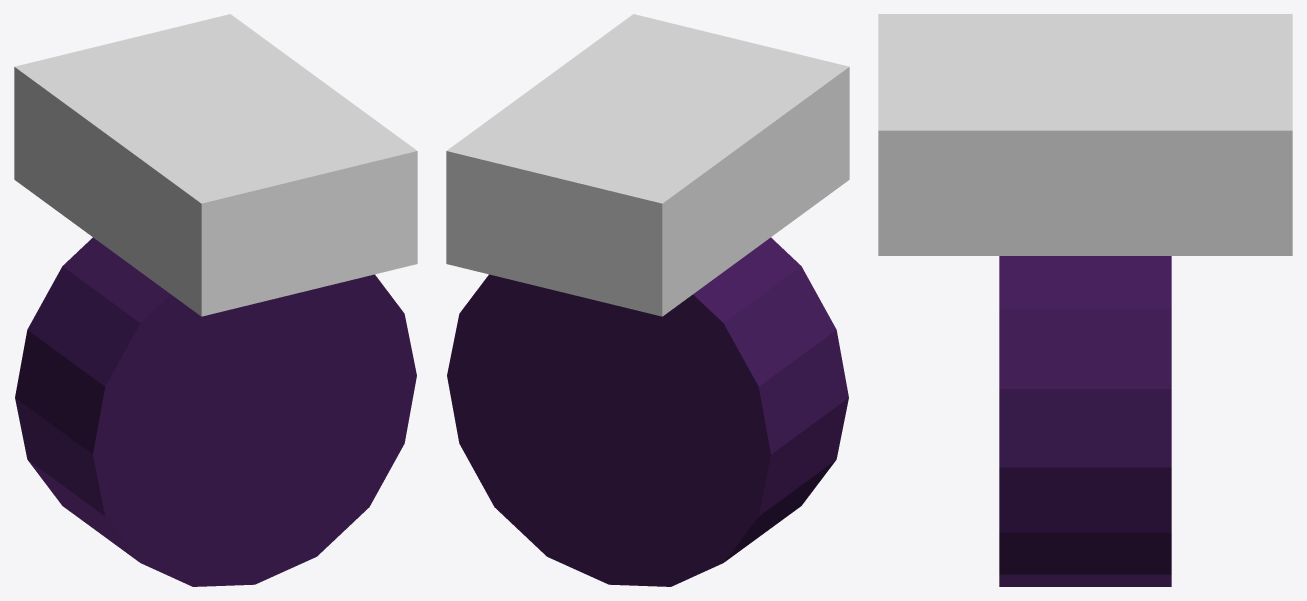
The model's file is Wheels.glb.
3 renders of one model, left to right at view 1: azimuth 30°, elevation 25°; view 2: azimuth 150°, elevation 25°; view 3: azimuth 270°, elevation 25°, orthographic. The views are drawn at different scales.
Parts seen in each view (by area): view 1: Cylinder; view 2: Cylinder; view 3: Cylinder.
Part boxes in pixels (x1,y1,x2,y2): Cylinder: [14, 14, 417, 586]; Cylinder: [446, 14, 849, 586]; Cylinder: [878, 14, 1292, 586].
Size of the model in its own units: 0.6 by 0.7915 by 0.6.
